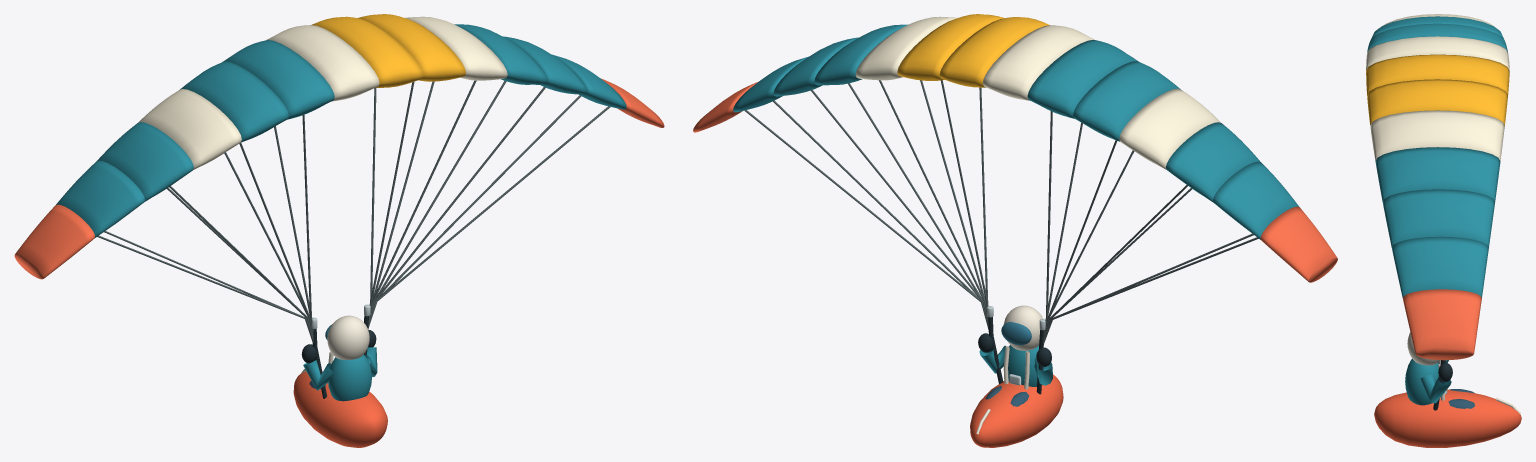
The model's file is paraglider.glb.
3 renders of one model, left to right at view 1: azimuth 30°, elevation 25°; view 2: azimuth 150°, elevation 25°; view 3: azimuth 270°, elevation 25°, orthographic.
Parts seen in each view (by area): view 1: toy-paraglider; view 2: toy-paraglider; view 3: toy-paraglider.
Part boxes in pixels (x1=…): toy-paraglider: x1=14, y1=14, x2=664, y2=447; toy-paraglider: x1=693, y1=14, x2=1337, y2=447; toy-paraglider: x1=1366, y1=14, x2=1521, y2=447.
Bounding box in the file's own units: 9.1 × 5.64 × 2.02.
